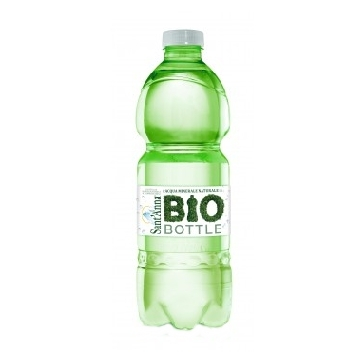PlasticBottle: (128, 27, 238, 338)
